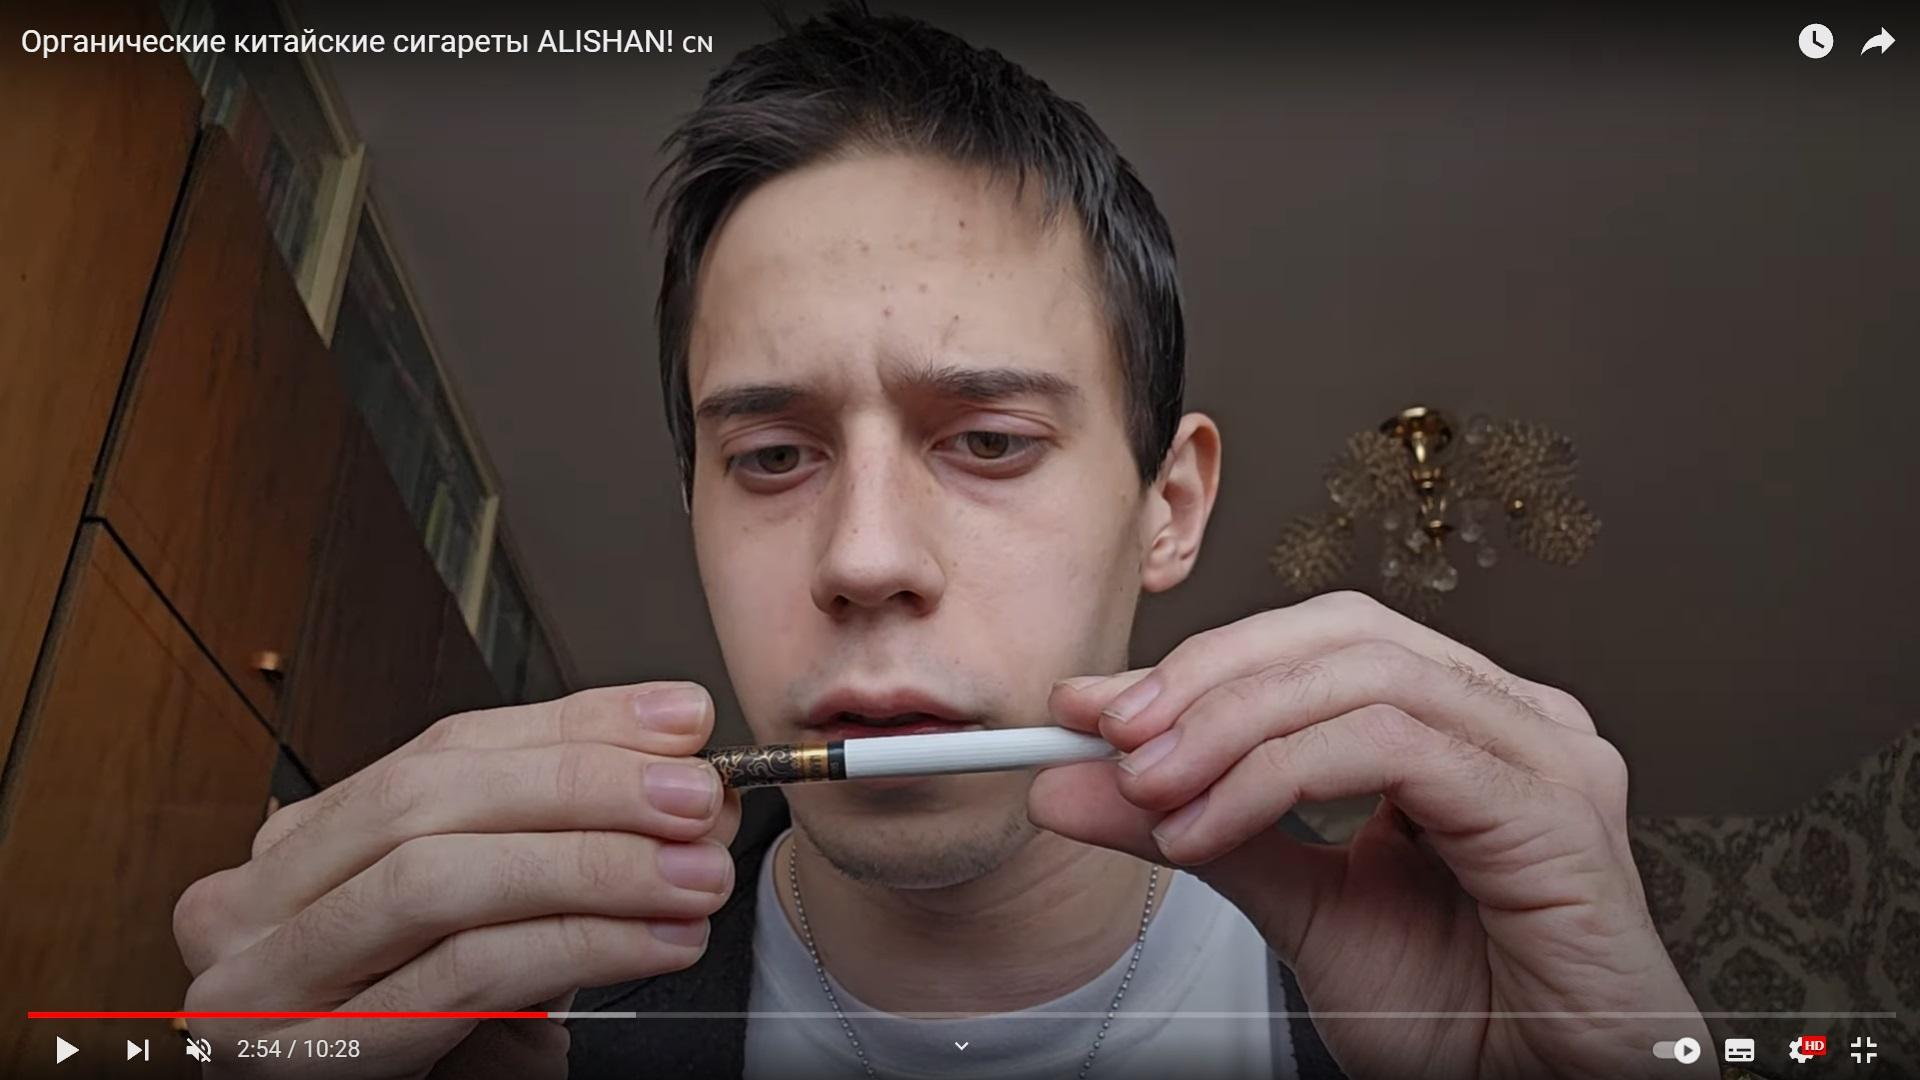cigarette: (696, 723, 1130, 789)
